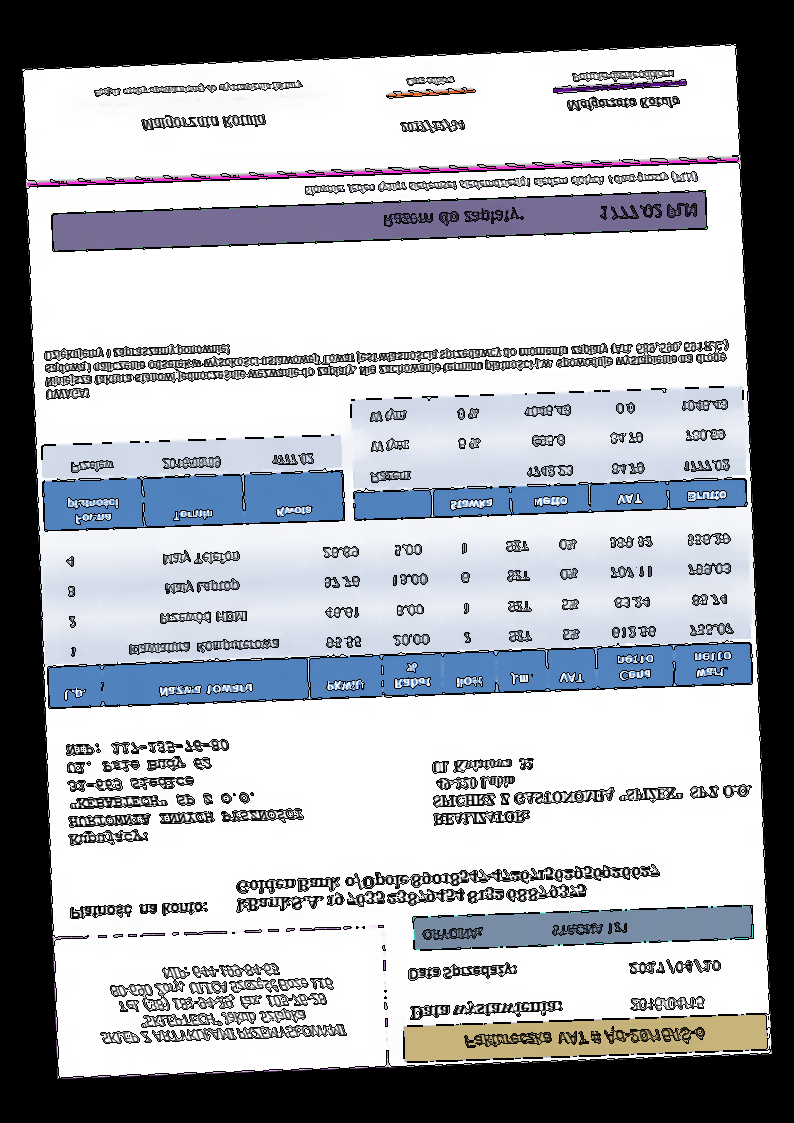Table: (41, 517, 754, 712), (346, 383, 748, 523), (40, 434, 346, 533)
TextBox: (41, 322, 733, 405), (60, 734, 307, 851), (427, 747, 756, 830), (94, 955, 350, 1053), (231, 862, 664, 917), (301, 169, 704, 200), (378, 199, 699, 236), (459, 1024, 711, 1055), (420, 917, 631, 946), (88, 78, 307, 101), (407, 997, 567, 1026), (64, 896, 212, 923), (138, 110, 270, 139), (403, 959, 523, 986), (561, 93, 685, 117), (625, 955, 725, 981), (625, 991, 706, 1019), (566, 66, 677, 85), (397, 116, 467, 137), (402, 71, 458, 90)
